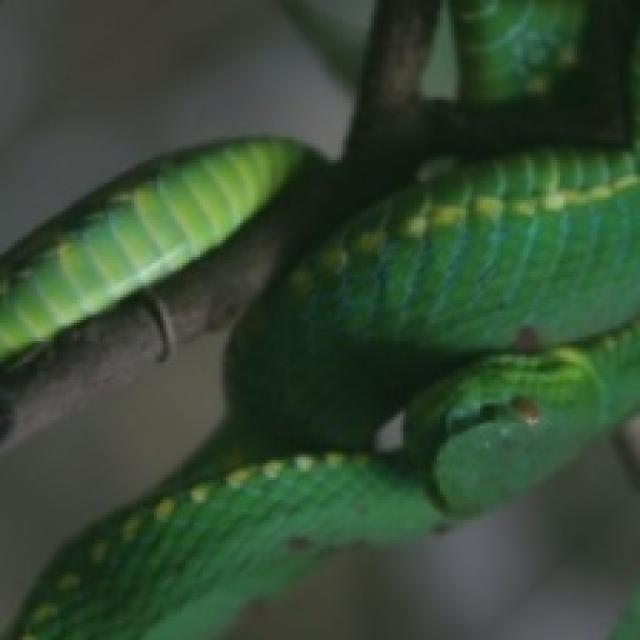philippine pitviper: (15, 148, 640, 640), (0, 138, 314, 363), (450, 0, 586, 104)
